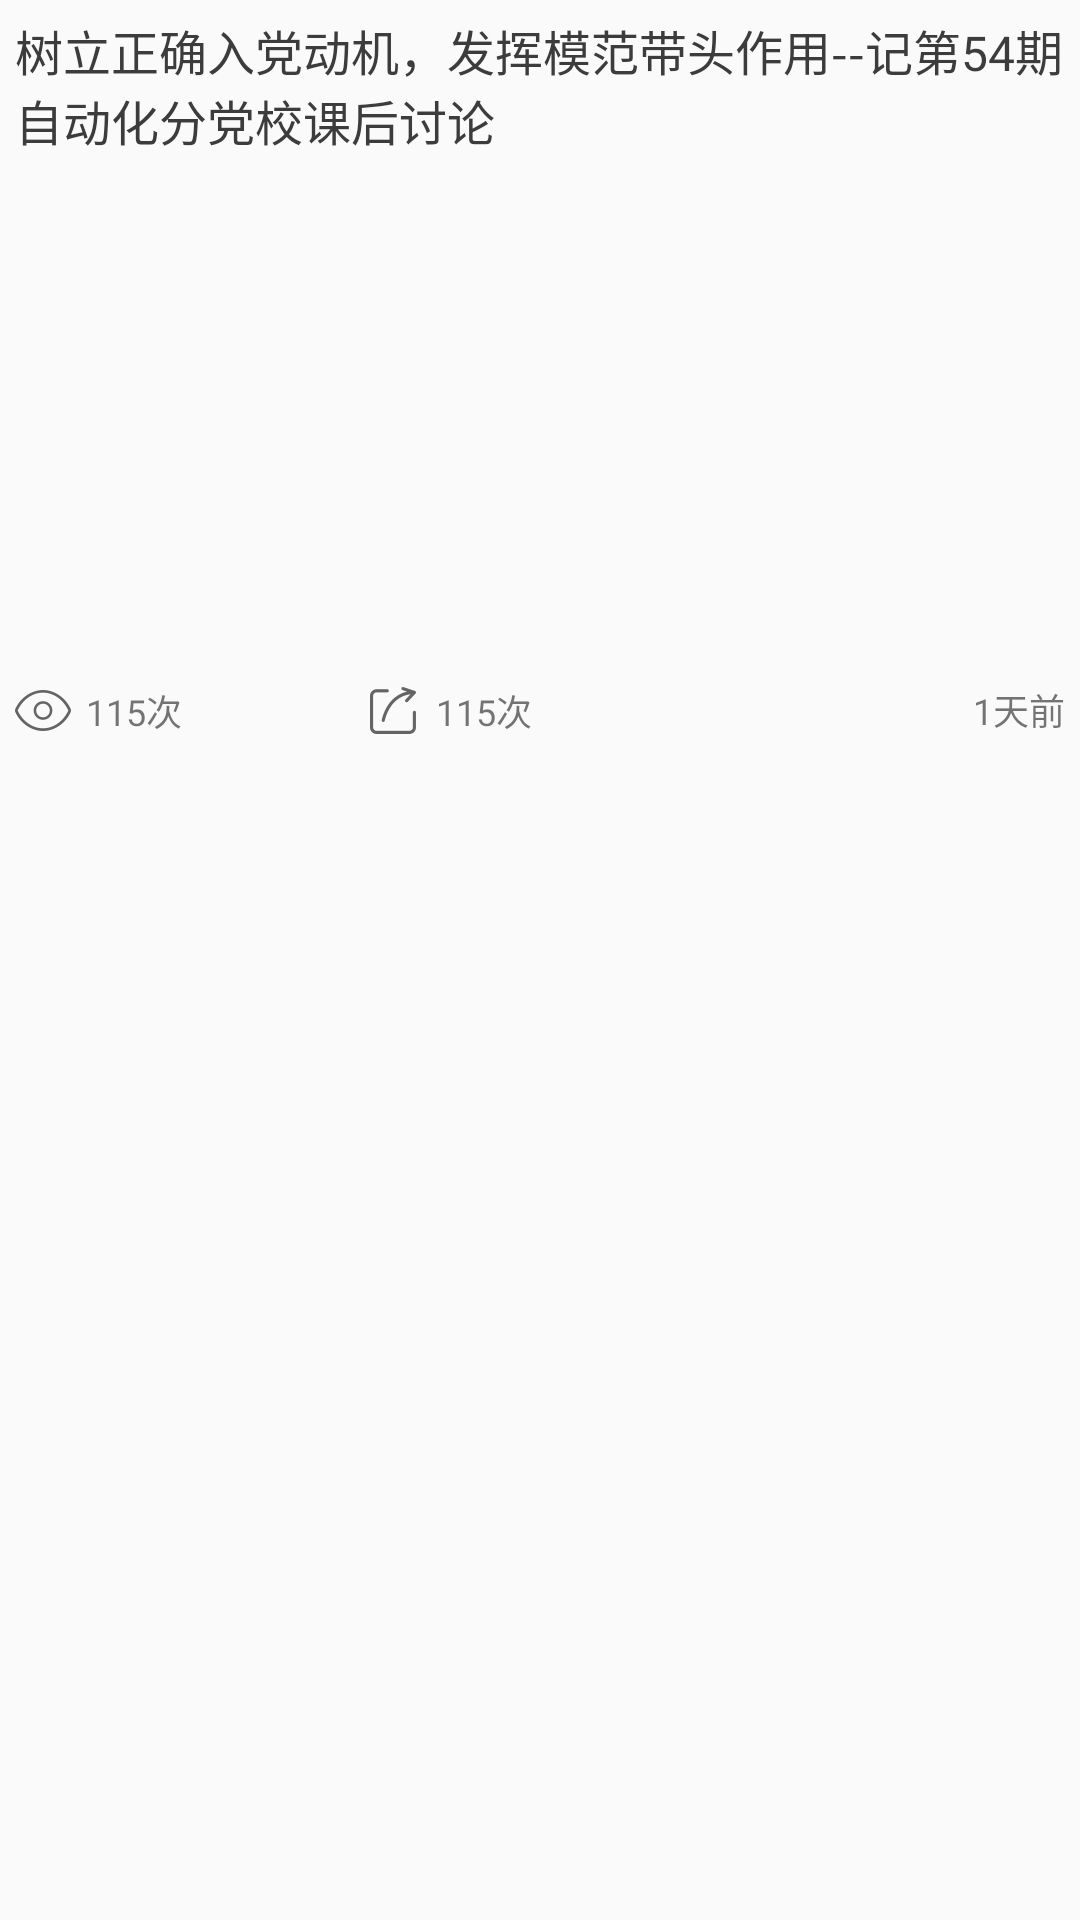

Icons on this 1080 × 1920 Android screen, each with its box as (x1, y1, x2, y2):
browse: (15, 690, 71, 731)
share: (370, 687, 416, 734)
